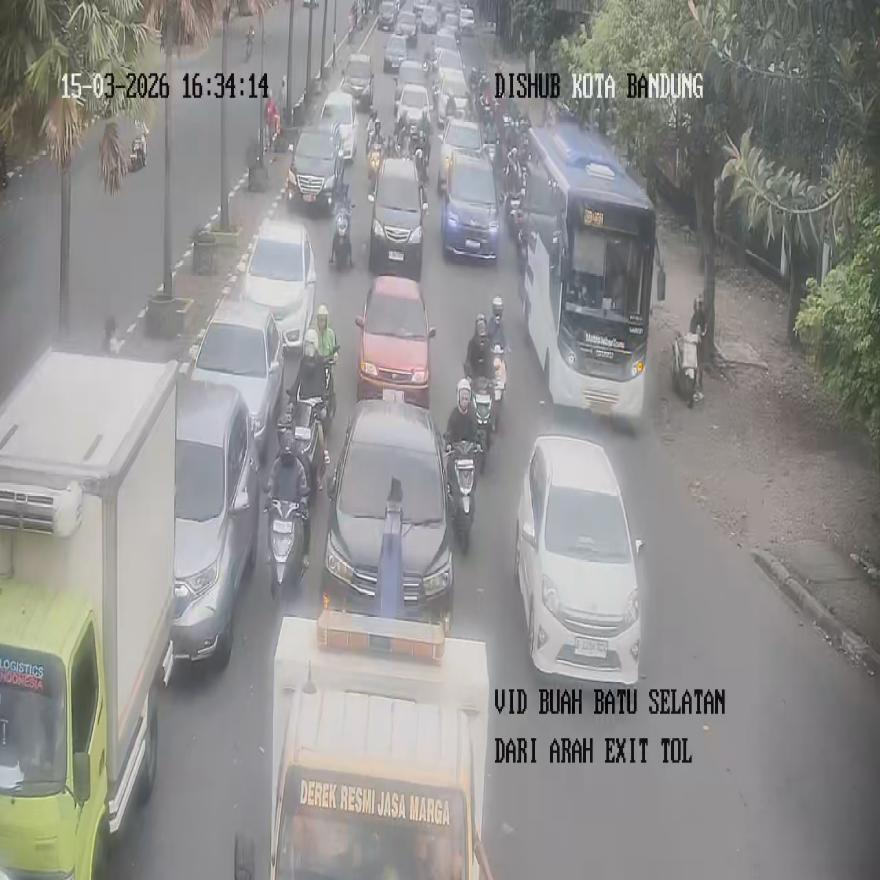Mobil: (234, 608, 493, 878), (514, 435, 642, 686), (324, 390, 452, 612), (170, 380, 258, 666), (189, 299, 283, 467), (356, 275, 434, 407), (240, 218, 316, 353), (368, 156, 427, 280)
Motor: (262, 434, 311, 599), (444, 436, 479, 552), (291, 396, 326, 494), (470, 376, 494, 469), (672, 331, 699, 408), (330, 191, 353, 270), (491, 344, 508, 404), (366, 144, 382, 196), (129, 134, 146, 173), (244, 24, 254, 58)
Truk ringan: (0, 350, 176, 875)
bus: (519, 115, 659, 423)
